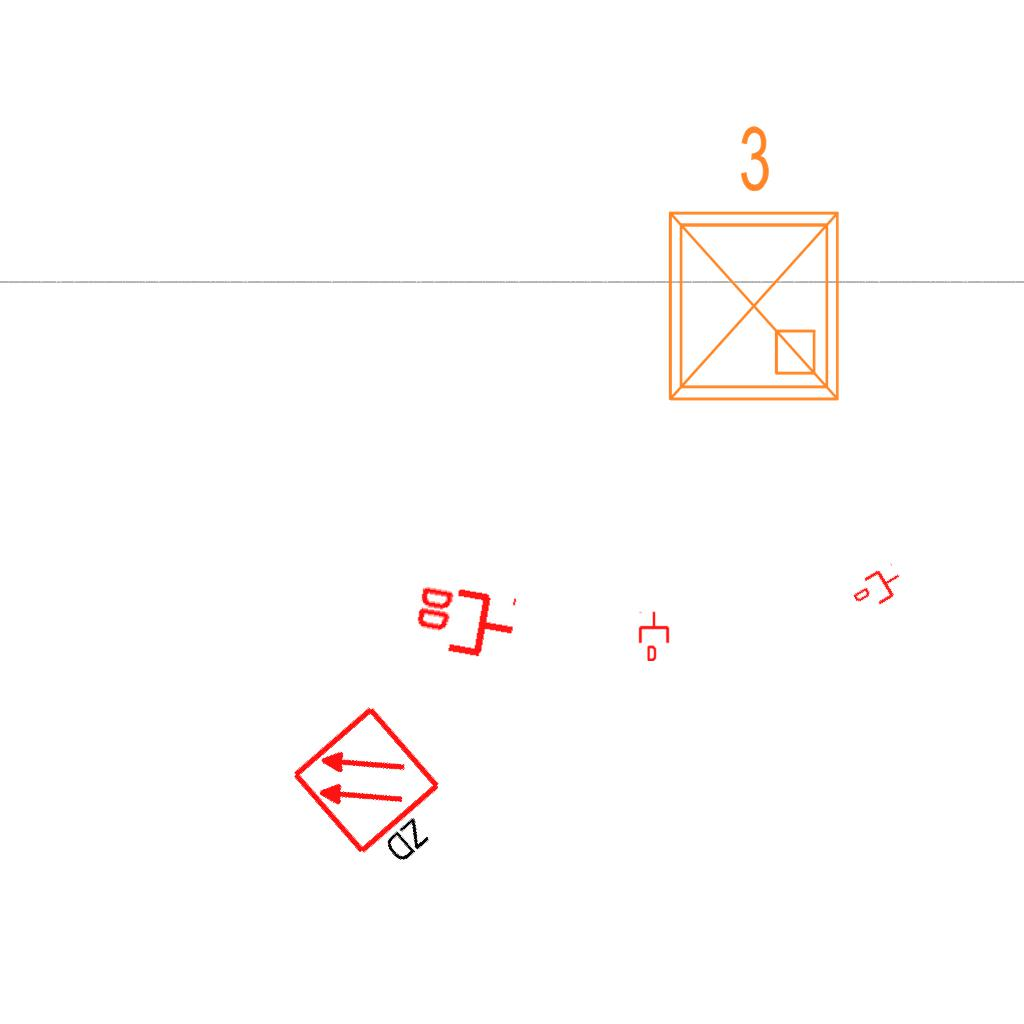Datenanschluss_einfach: (847, 560, 909, 616), (637, 611, 671, 661)
Datenanschluss_zweifach: (407, 580, 522, 667)
Einbaudownlights_LED_Konferenzraeume: (646, 115, 854, 415)
ZD_Melder_in_Zwischendecke_mit_Revisionsoeffnung_mind_40_x_40_cm: (288, 699, 472, 888)
